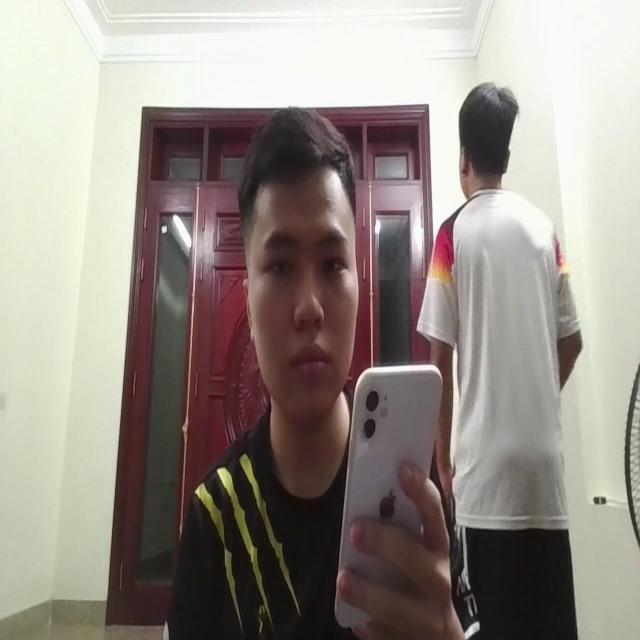extra_person: (418, 59, 580, 623)
phone: (336, 353, 443, 640)
student: (163, 99, 456, 640)
